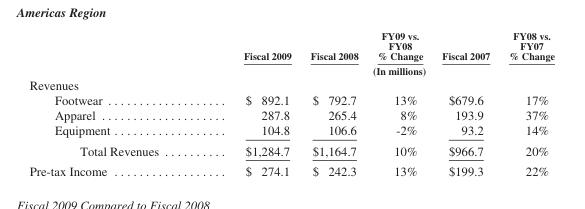table: (28, 29, 553, 177)
table column: (28, 29, 200, 177), (200, 29, 300, 177), (300, 29, 367, 177), (431, 29, 498, 177), (367, 29, 431, 177), (498, 29, 553, 177)
table column header: (28, 29, 553, 76)
table projected row header: (28, 76, 553, 92)
table row: (28, 29, 553, 62), (28, 140, 553, 160), (28, 122, 553, 140), (28, 160, 553, 177), (28, 76, 553, 92), (28, 92, 553, 107), (28, 107, 553, 122), (28, 62, 553, 76)
table spanning cell: (200, 62, 553, 76)
